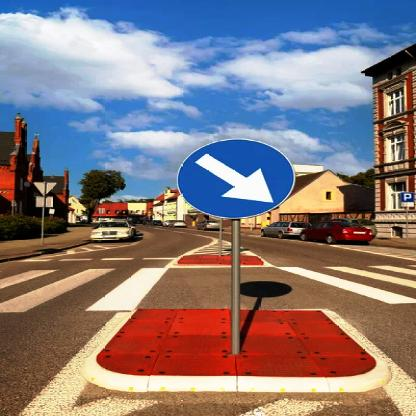Keep right: (174, 136, 301, 220)
